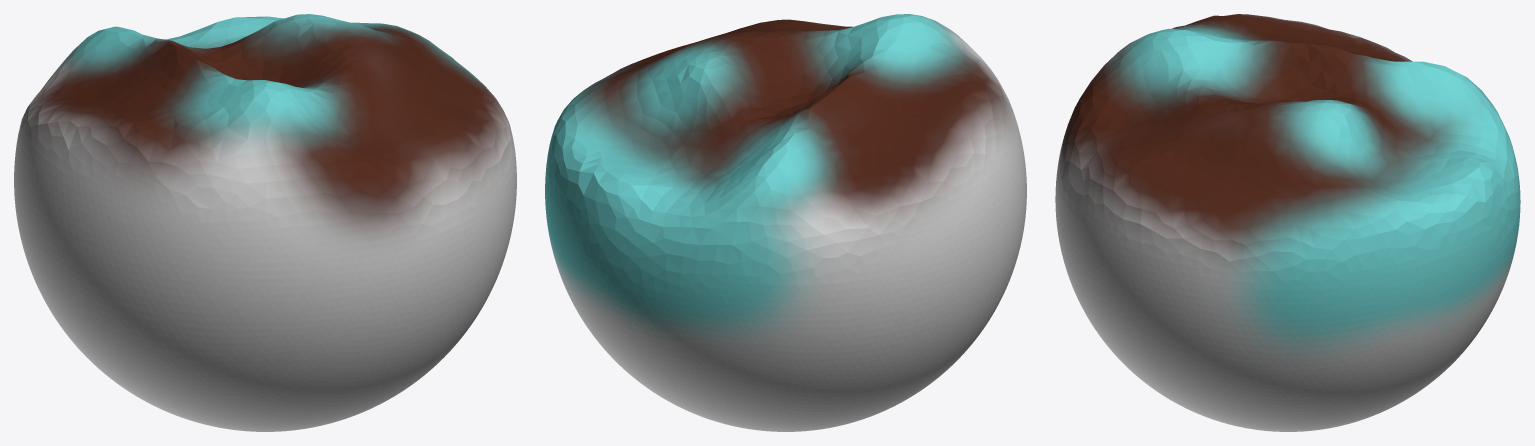
The model's file is nighttry.glb.
3 renders of one model, left to right at view 1: azimuth 30°, elevation 25°; view 2: azimuth 150°, elevation 25°; view 3: azimuth 270°, elevation 25°, orthographic. The views are drawn at different scales.
Visible parts, largest first — view 1: Icosphere; view 2: Icosphere; view 3: Icosphere.
Part boxes in pixels (box(x1,y1,x2,y2)): Icosphere: box(14, 14, 516, 431); Icosphere: box(545, 14, 1026, 431); Icosphere: box(1055, 14, 1520, 431).
Bounding box in the file's own units: 7.06 × 5.88 × 7.06.
